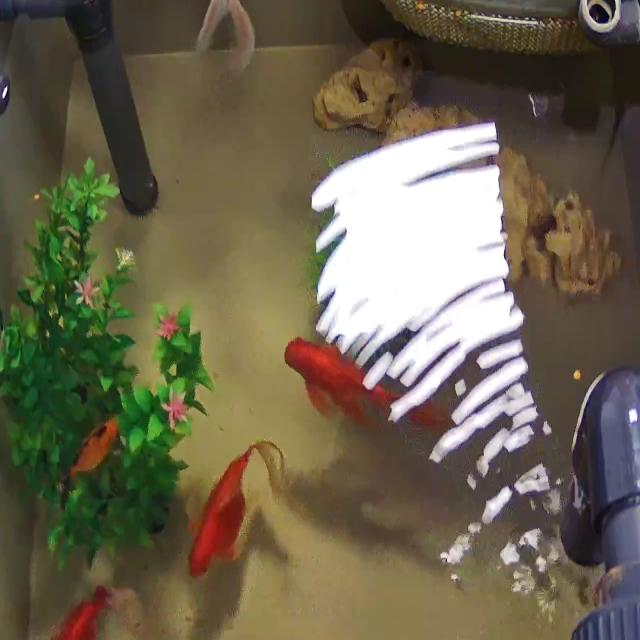fish: (280, 325, 411, 434), (188, 438, 284, 577), (170, 0, 252, 74), (30, 579, 127, 640), (68, 416, 120, 482)
